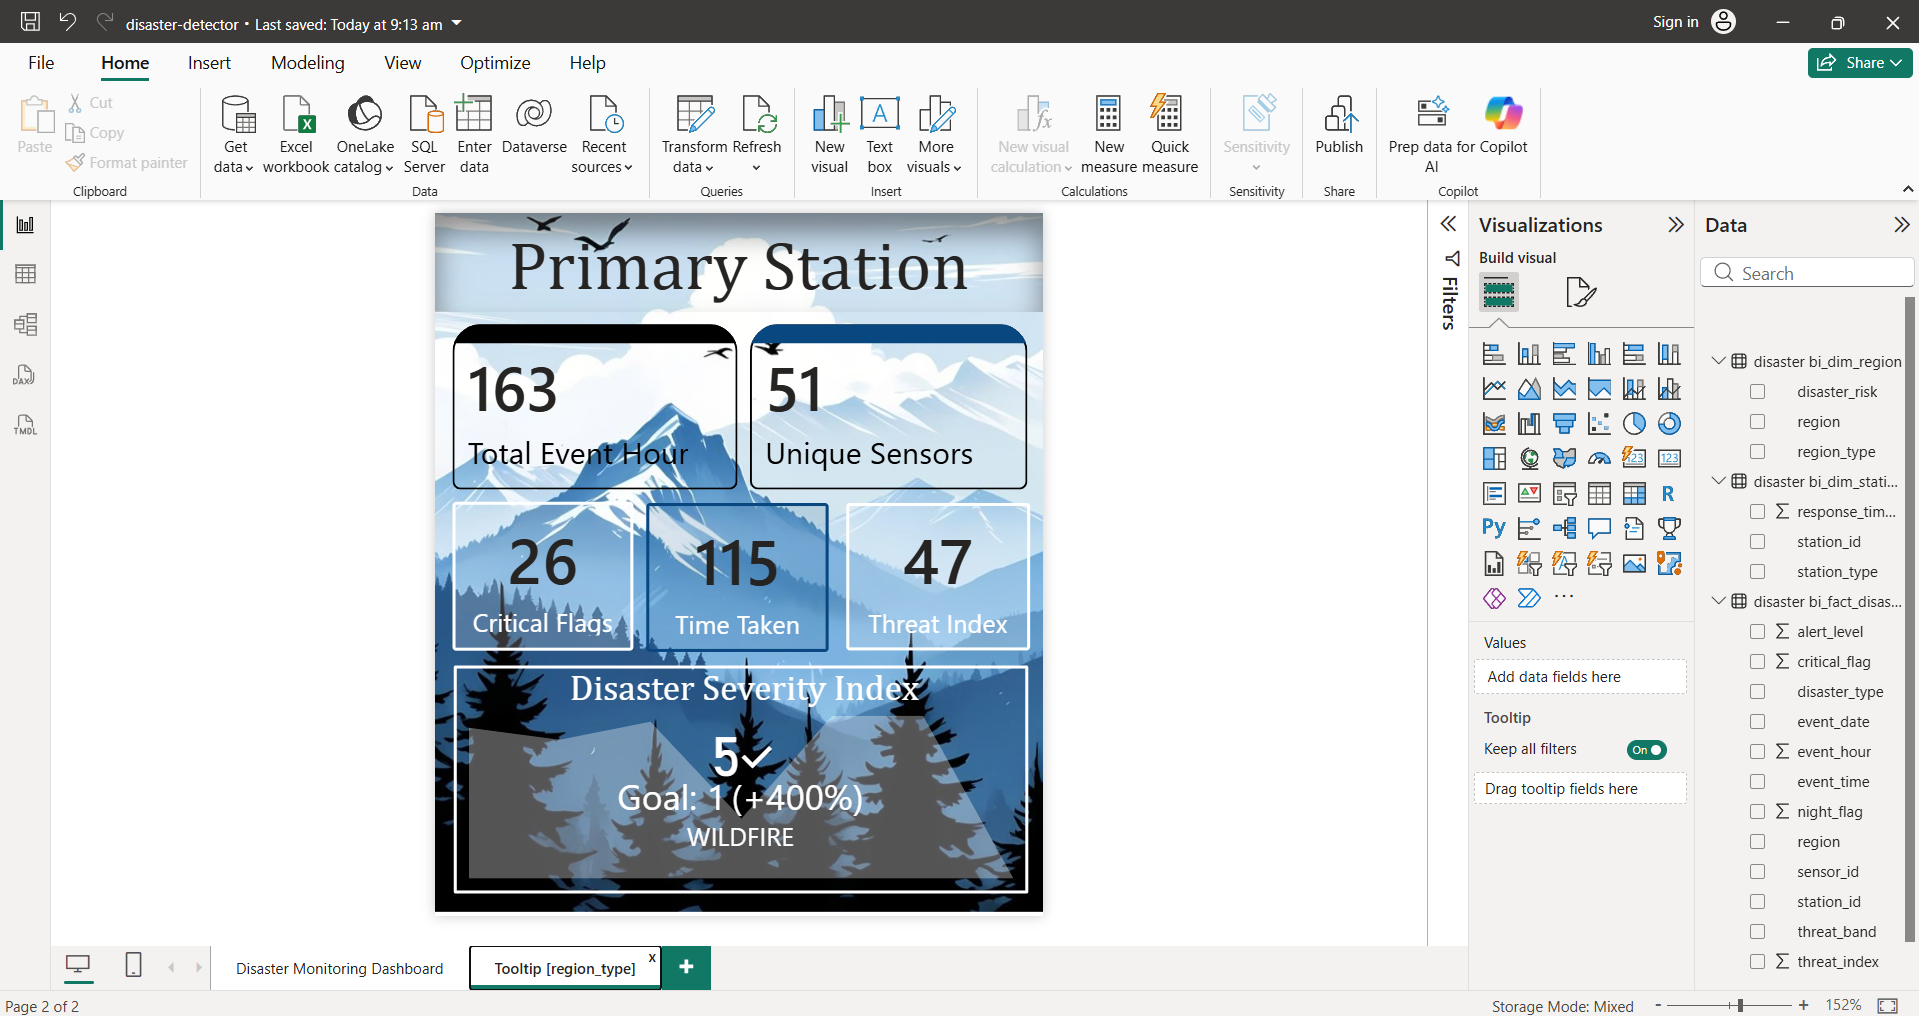

What the dashboard file says about the page in this screenshot:
{"tool":"powerbi","page":{"name":"Tooltip [region_type]","canvas":[320,370],"ordinal":1},"visuals":[{"type":"card","fields":{"Values":["Min(Sheet2.station_type)"]},"box":[0,0,320.4,52.2],"z":0},{"type":"card","fields":{"Values":["Sum(Sheet2.response_time_mins)"]},"box":[111.2,152.5,96.2,78.8],"z":1000},{"type":"card","fields":{"Values":["Sum(Sheet3.critical_flag)"]},"box":[9.3,152.1,95,78.6],"z":2000},{"type":"kpi","title":"Disaster Severity Index","fields":{"Indicator":["Sum(Sheet3.alert_level)"],"Goal":["Sum(Sheet3.critical_flag)"],"TrendLine":["Sheet3.disaster_type"]},"box":[10.2,238,302.8,120.4],"z":3000},{"type":"card","fields":{"Values":["Count(Sheet3.threat_index)"]},"box":[216.4,152.9,96.4,77.9],"z":4000},{"type":"cardVisual","fields":{"Data":["Sum(Sheet3.event_hour)"]},"box":[9.5,58.4,150.5,87.9],"z":5000},{"type":"cardVisual","fields":{"Data":["Count(Sheet3.sensor_id)"]},"box":[165.8,58.4,146.8,87.9],"z":6000}]}

Visuals, with their boxes on the page's 320x370 design canvas (x1, y1, x2, y2). These are canvas units, not pixel positions in the 1919x1016 screenshot, which may show the page scaled, cropped or inside an application window:
card - Min(Sheet2.station_type): box(0, 0, 320, 52)
card - Sum(Sheet2.response_time_mins): box(111, 152, 207, 231)
card - Sum(Sheet3.critical_flag): box(9, 152, 104, 231)
"Disaster Severity Index" kpi: box(10, 238, 313, 358)
card - Count(Sheet3.threat_index): box(216, 153, 313, 231)
cardVisual - Sum(Sheet3.event_hour): box(10, 58, 160, 146)
cardVisual - Count(Sheet3.sensor_id): box(166, 58, 313, 146)
